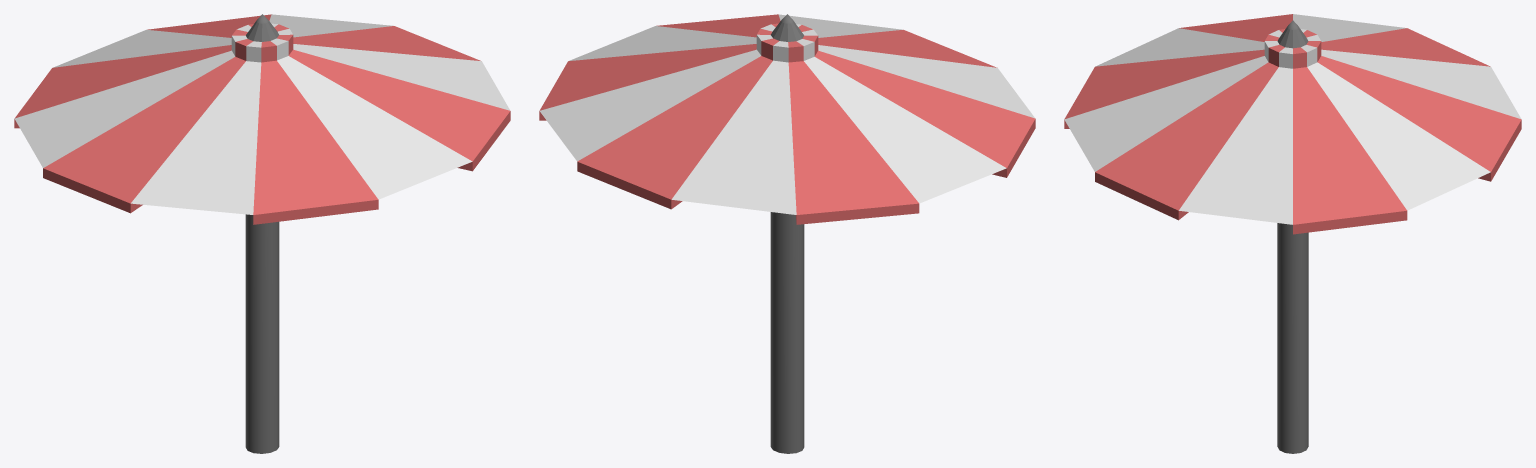
File: MS_Umbrella.fbx
3 views of the same model, side by side, from view 1: azimuth 30°, elevation 25°; view 2: azimuth 150°, elevation 25°; view 3: azimuth 270°, elevation 25° (orthographic).
Parts seen in each view (by area): view 1: pCylinder1; view 2: pCylinder1; view 3: pCylinder1.
Boxes of the visible parts, box(x1,y1,x2,y2) form: pCylinder1: box(14, 14, 510, 453); pCylinder1: box(539, 14, 1035, 453); pCylinder1: box(1064, 14, 1521, 453).
Bounding box in the file's own units: 31.23 × 29.46 × 28.63.
